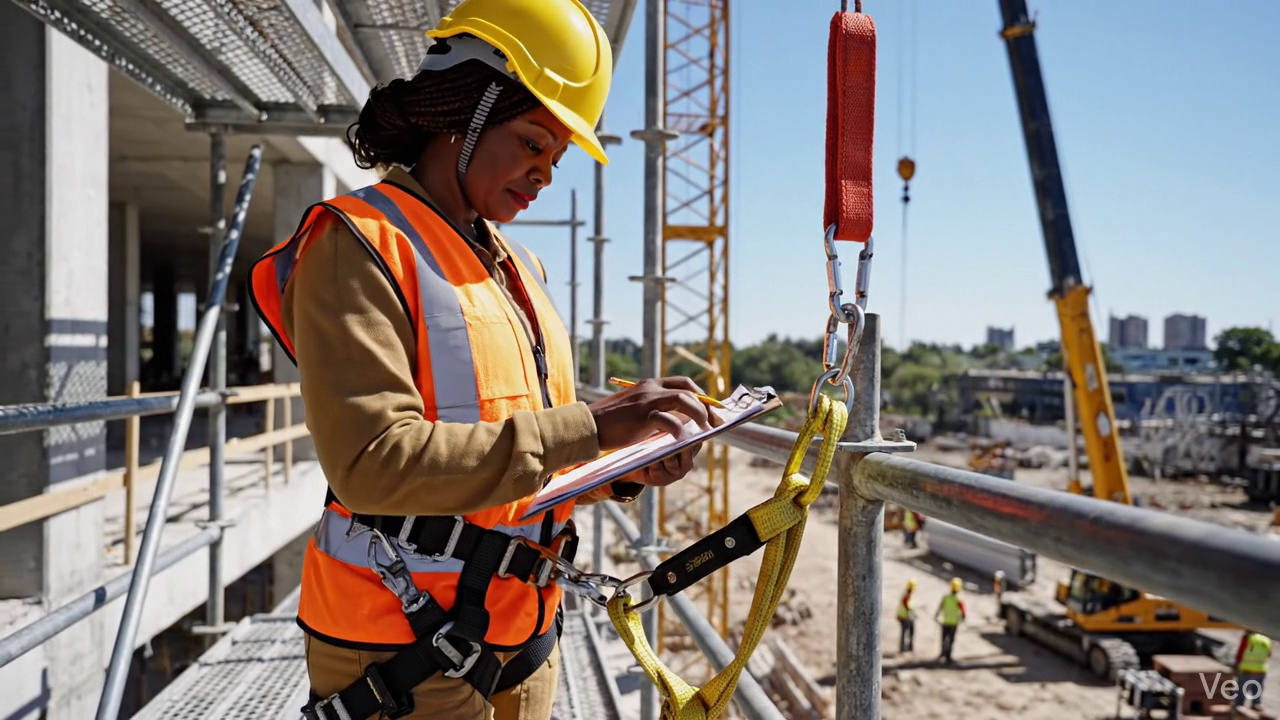p: (251, 0, 718, 719), (581, 450, 694, 502), (695, 447, 697, 449)
